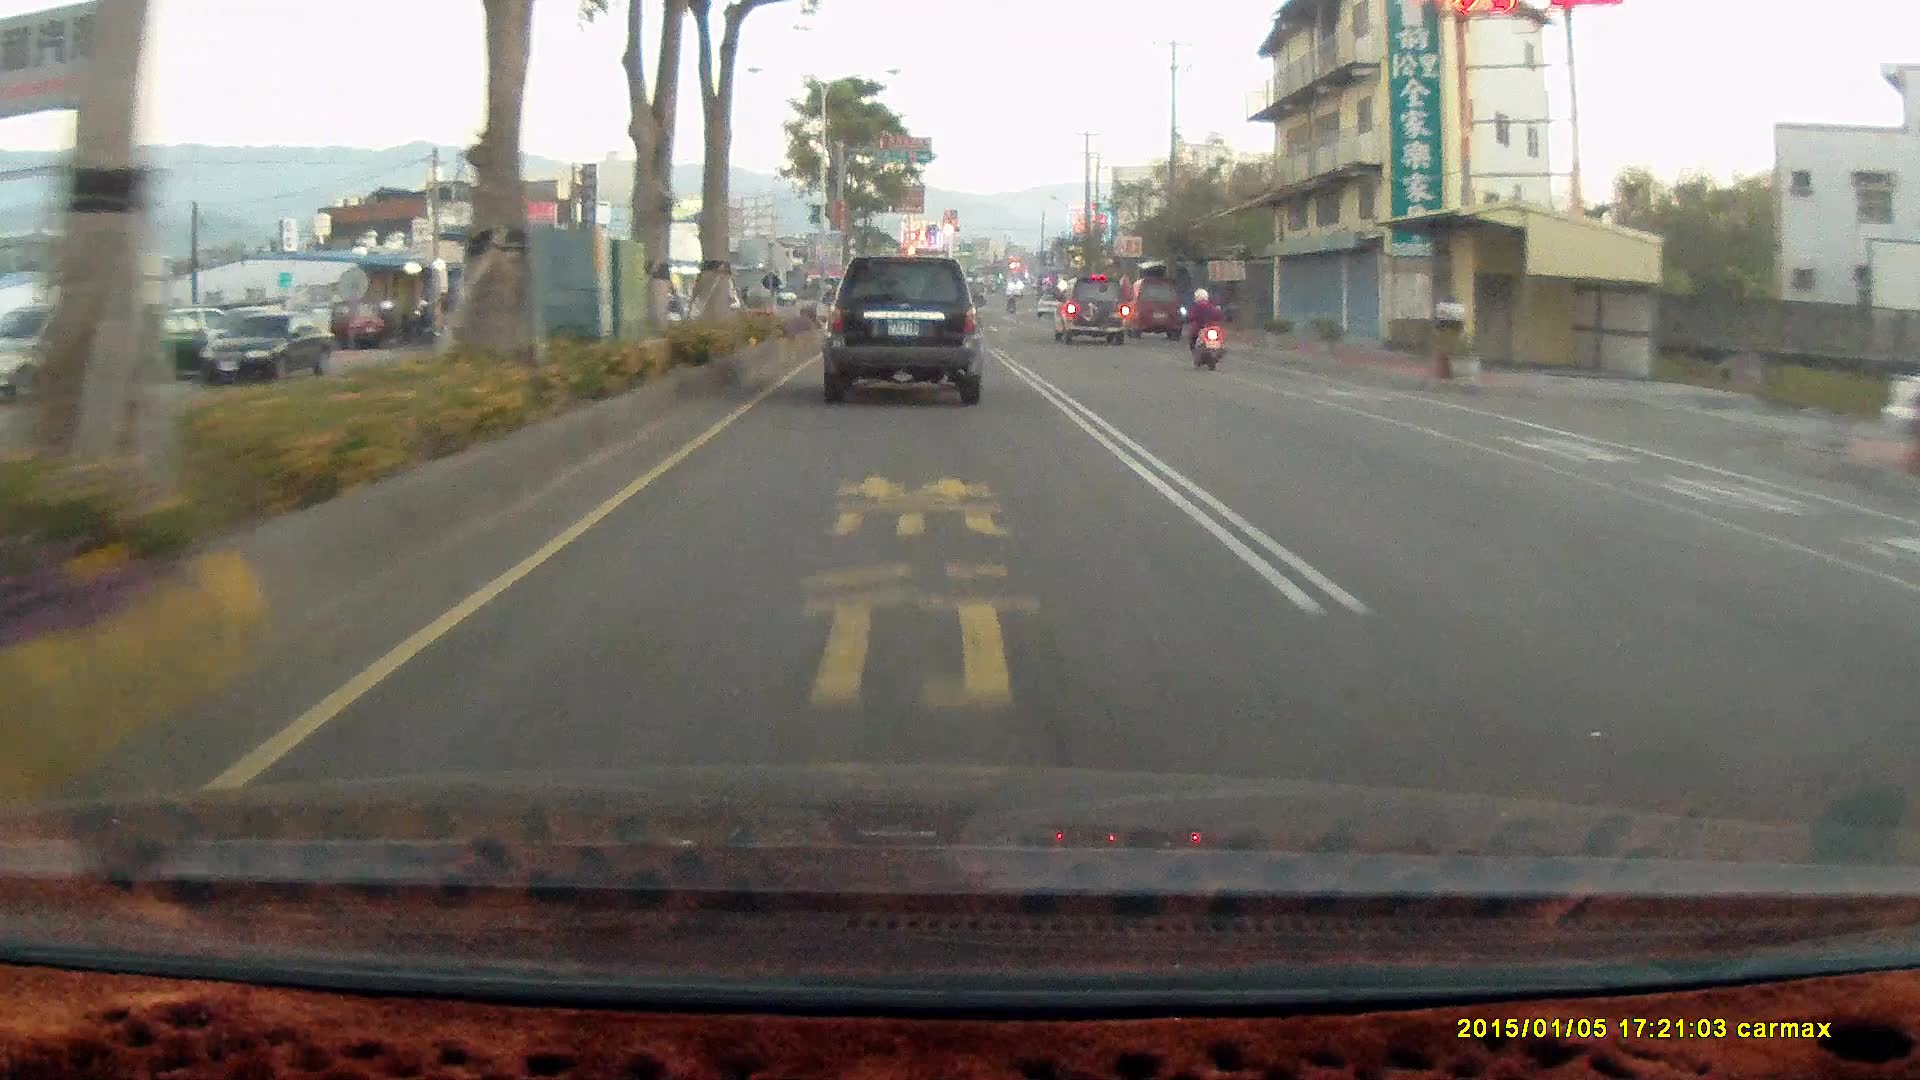rider: (1176, 282, 1235, 380), (1177, 286, 1225, 371), (394, 296, 443, 344)
vehicle: (816, 256, 988, 405), (819, 255, 984, 403), (1, 301, 146, 405), (195, 313, 332, 392), (196, 313, 333, 384), (1058, 278, 1140, 352), (1050, 274, 1129, 343), (1128, 278, 1187, 345), (1126, 276, 1185, 341)
